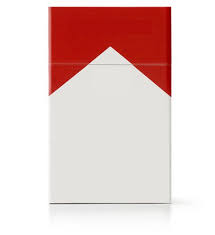marlboro: (49, 7, 171, 202)
